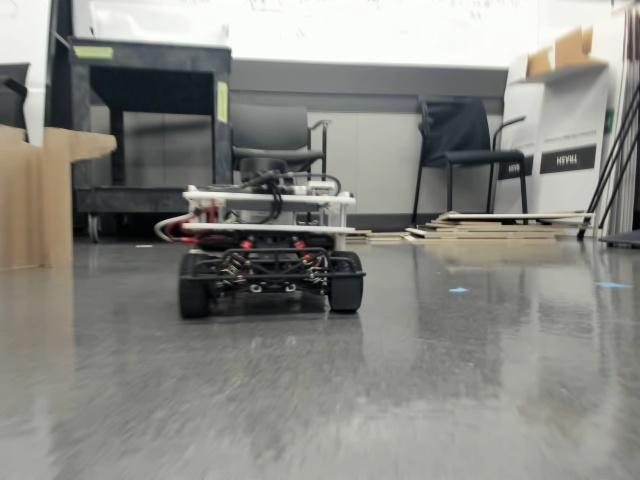Car: (178, 156, 366, 317)
